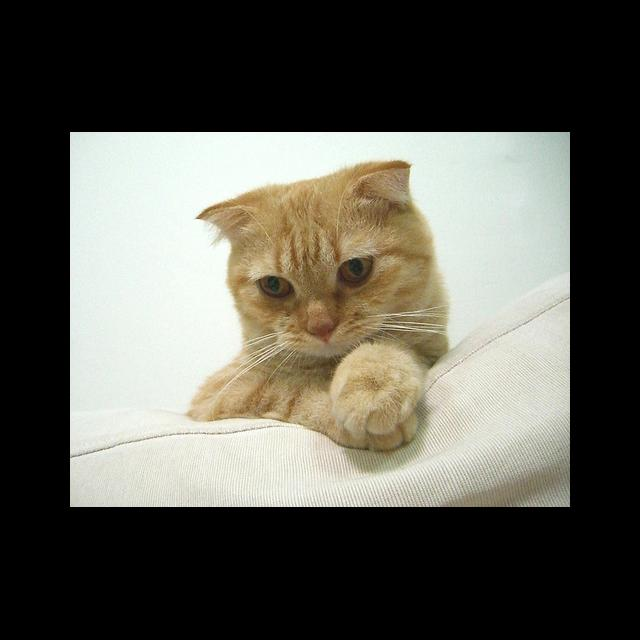animals: (197, 166, 408, 340)
